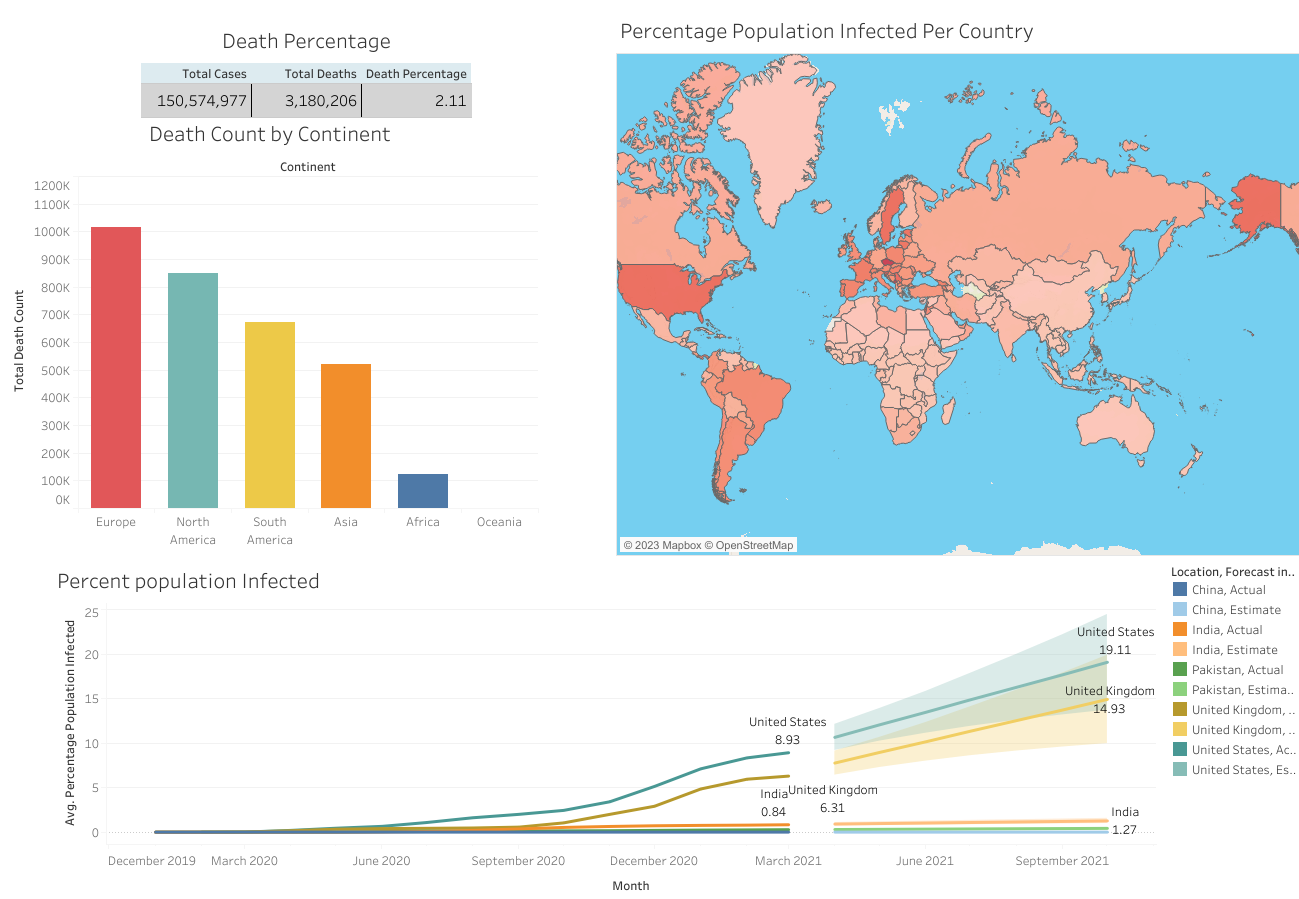

Layout of this report page (visuals, bound fields, positions):
{"tool":"tableau","page":{"name":"Dashboard 1","canvas":[1300,900],"ordinal":0},"visuals":[{"type":"worksheet","title":"Sheet 3","mark":"Automatic","box":[616.1,9.7,684.5,546]},{"type":"worksheet","title":"Sheet 1","mark":"Automatic","box":[141,20,344,133]},{"type":"worksheet","title":"Sheet 2","mark":"Automatic","rows":["TotalDeathCount"],"cols":["location"],"box":[2,113,536,435]},{"type":"worksheet","title":"Sheet 4","mark":"Automatic","rows":["PercentagePopulationInfected"],"cols":["date"],"box":[53,560,1103,341]},{"type":"legend","title":"Sheet 4","param":"[federated.1jppxh819ccjns12yvabh1a31wew].[none:Location:nk]\n[federated.1jppxh819","box":[1170,560,128,300]}]}

Visuals, with their boxes in screenshot pixels (x1, y1, x2, y2), scaled from the page's 1300x900 canvas onto the 1299x899 screenshot:
"Sheet 3" worksheet: {"left": 616, "top": 10, "right": 1298, "bottom": 555}
"Sheet 1" worksheet: {"left": 141, "top": 20, "right": 485, "bottom": 153}
"Sheet 2" worksheet: {"left": 2, "top": 113, "right": 538, "bottom": 547}
"Sheet 4" worksheet: {"left": 53, "top": 559, "right": 1155, "bottom": 898}
"Sheet 4" legend: {"left": 1169, "top": 559, "right": 1297, "bottom": 859}
